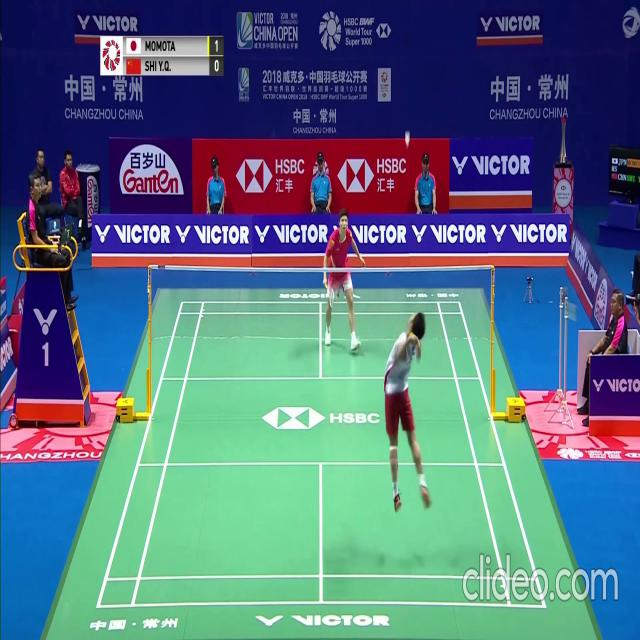Shuttlecock: (405, 137, 410, 144)
